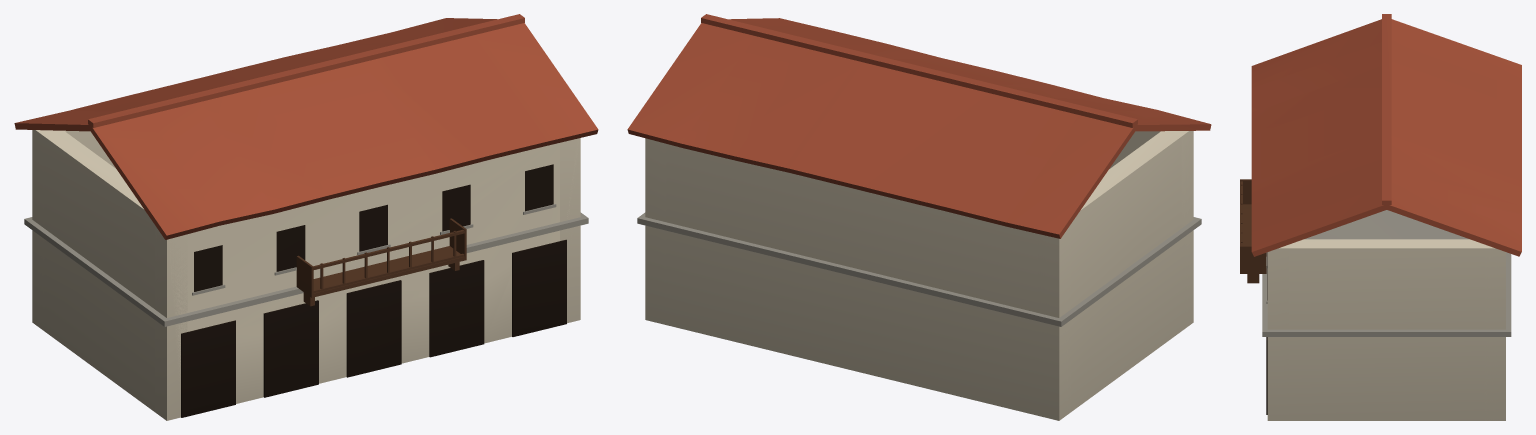
The model's file is colonial_cabildo_lod0.glb.
The picture shows the model from 3 angles, left to right: view 1: azimuth 30°, elevation 25°; view 2: azimuth 150°, elevation 25°; view 3: azimuth 270°, elevation 25°; orthographic projection. The views are drawn at different scales.
Visible parts, largest first — view 1: GEO-Arch_colonial_cabildo_LOD0; view 2: GEO-Arch_colonial_cabildo_LOD0; view 3: GEO-Arch_colonial_cabildo_LOD0.
Part boxes in pixels (x1,y1,x2,y2): GEO-Arch_colonial_cabildo_LOD0: (14,14,598,420); GEO-Arch_colonial_cabildo_LOD0: (627,14,1211,420); GEO-Arch_colonial_cabildo_LOD0: (1240,14,1521,420).
Bounding box in the file's own units: 16.7 × 9.34 × 10.64.
